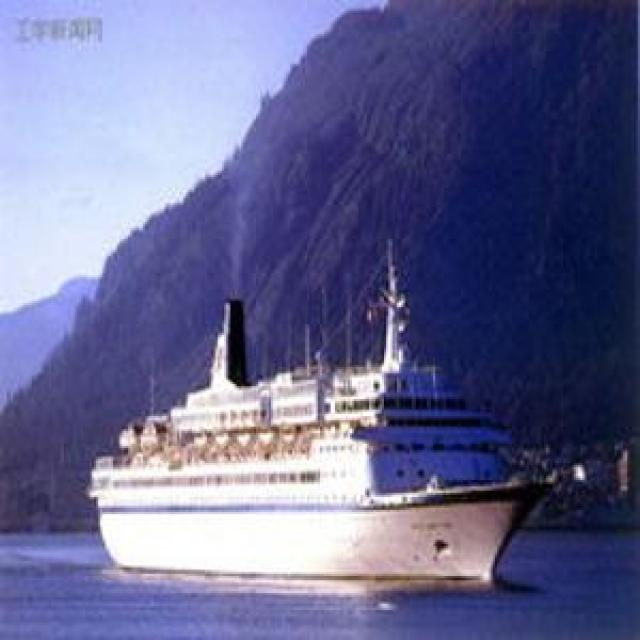passenger ship: (83, 272, 533, 587)
